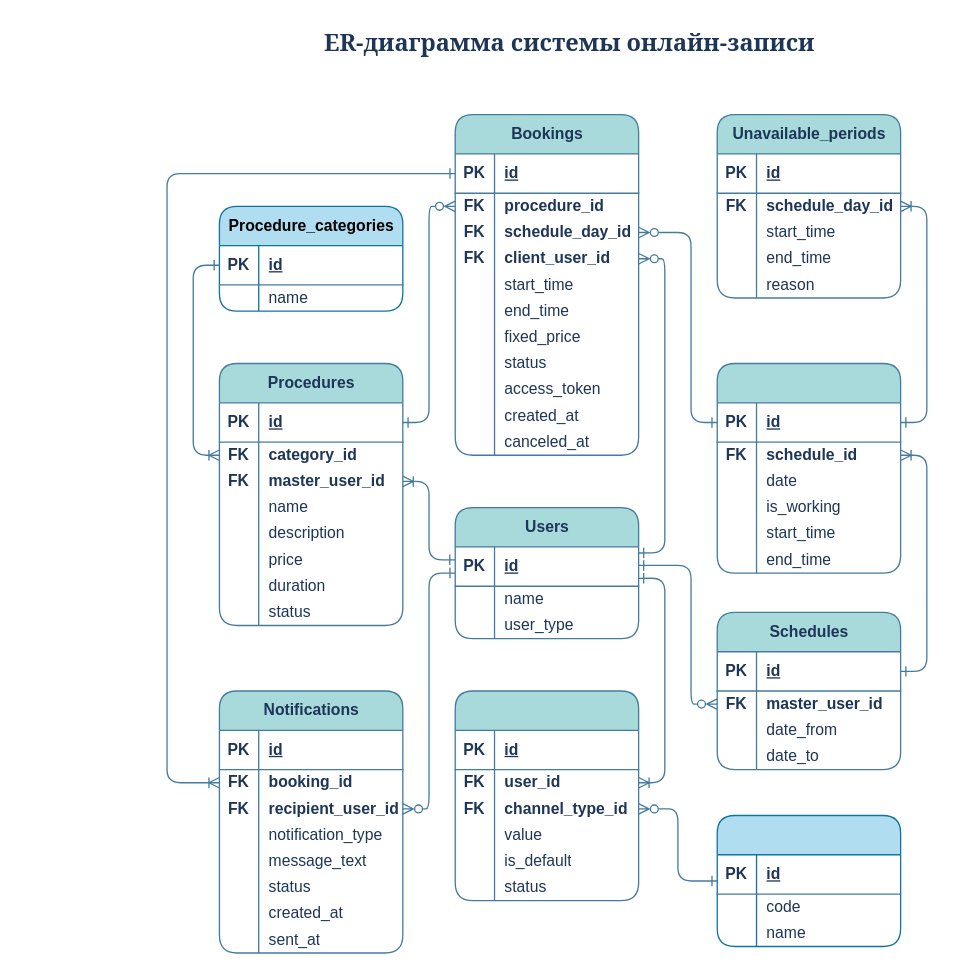
Image size: 962x976. Some labels were removed from this diagram. The box of each missing label's shape, as (x1, y1, x2, y2) in pixels:
Channel_types: (716, 814, 901, 946)
Contact_channels: (454, 690, 639, 901)
Schedule_days: (716, 362, 901, 573)
